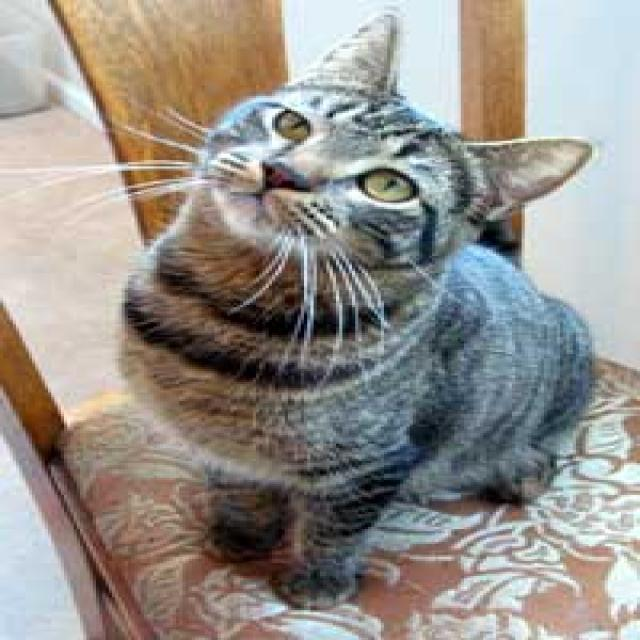Cats: (0, 10, 598, 610)
